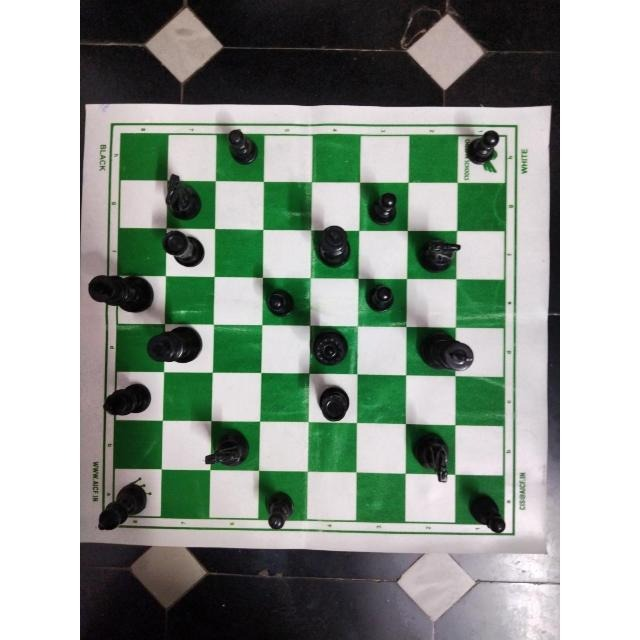black-bishop: (92, 480, 152, 536), (91, 380, 156, 427)
black-king: (84, 271, 156, 315), (419, 328, 475, 376), (144, 323, 205, 365), (313, 222, 357, 272)
black-knight: (408, 426, 454, 485), (158, 170, 208, 222), (201, 425, 253, 474), (414, 233, 464, 269)
black-pawn: (261, 485, 301, 537), (469, 487, 508, 539), (463, 125, 507, 166), (224, 125, 262, 170), (261, 283, 302, 323), (366, 281, 404, 317), (368, 187, 403, 225)
black-queen: (307, 325, 355, 369)
black-rook: (159, 226, 209, 272), (314, 382, 353, 428)
